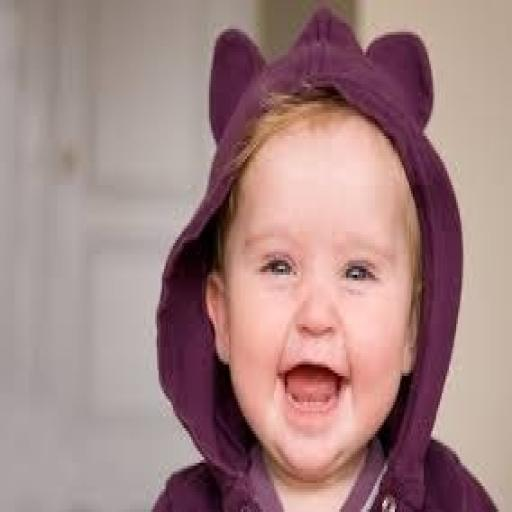laughing: (140, 9, 500, 506)
